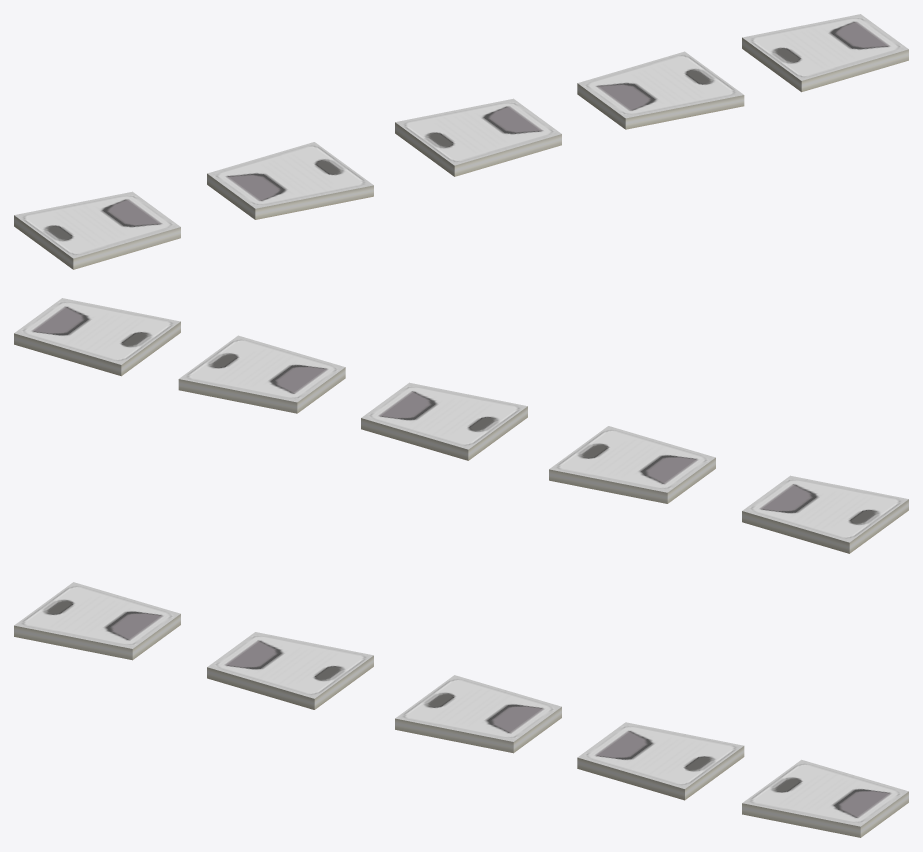
The model's file is Bundle_Weight_Scales.fbx.
The picture shows the model from 3 angles, top to bottom: view 1: azimuth 30°, elevation 25°; view 2: azimuth 150°, elevation 25°; view 3: azimuth 330°, elevation 25°; orthographic projection.
Parts seen in each view (by area): view 1: Bundle_Weight_Scale_1; view 2: Bundle_Weight_Scale_1; view 3: Bundle_Weight_Scale_1.
Boxes of the visible parts, bbox=[...] form: Bundle_Weight_Scale_1: bbox=[14, 14, 908, 269]; Bundle_Weight_Scale_1: bbox=[14, 298, 908, 553]; Bundle_Weight_Scale_1: bbox=[14, 582, 908, 837].
Size of the model in its own units: 433 by 5.54 by 53.01.
